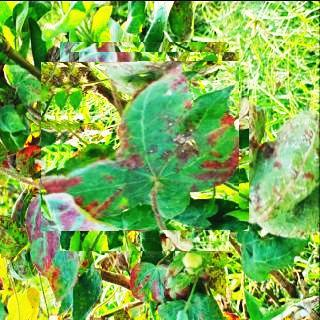blight: (50, 51, 239, 240)
